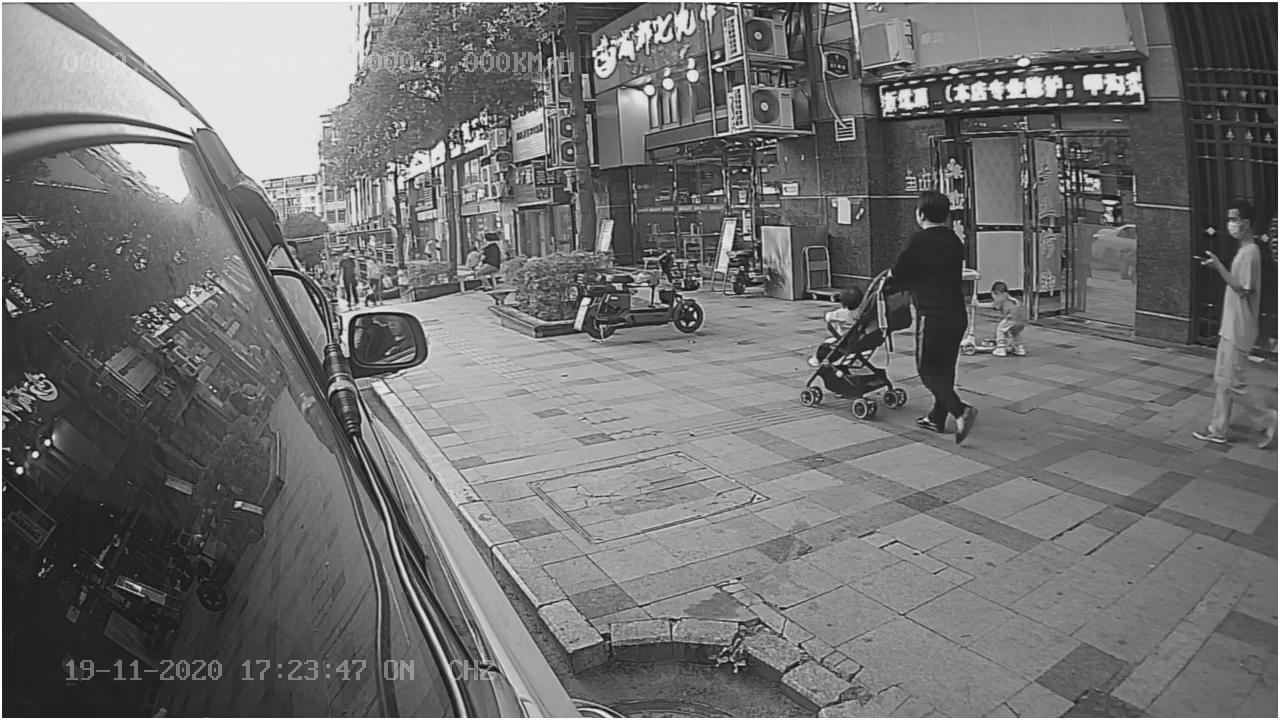person: (888, 184, 983, 454)
